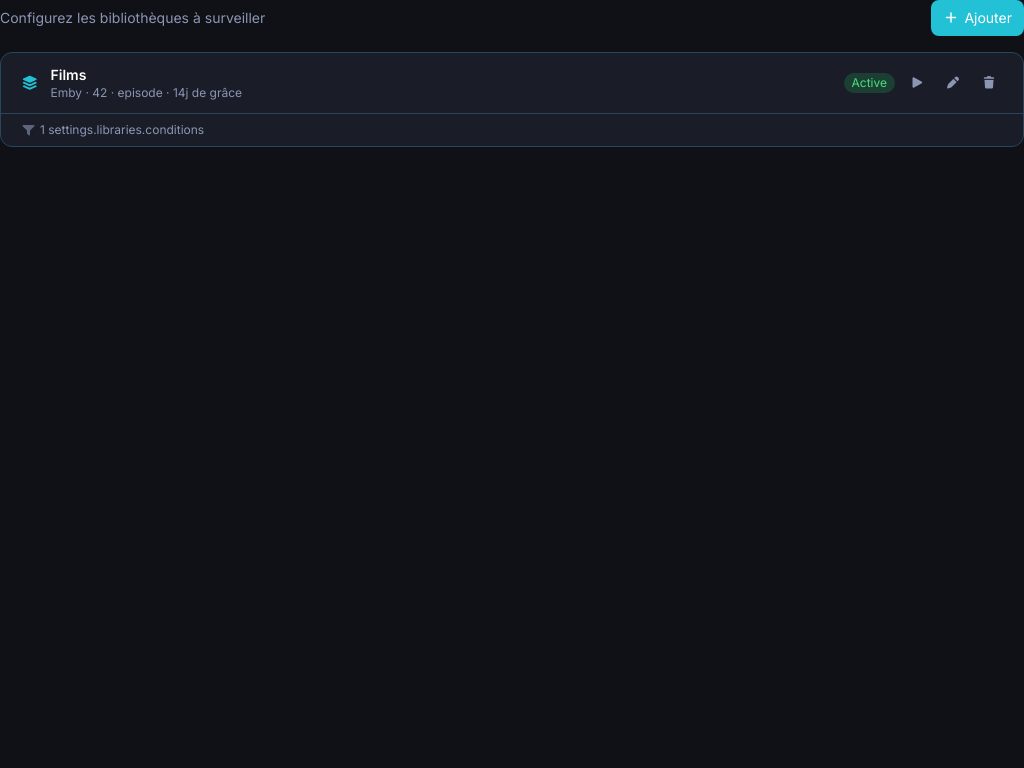
Scenario: LibrariesTab › openEdit pre-fills the modal from the clicked library
Click the button named "Modifier". click: (953, 83)
box: x1=939 y1=69 x2=967 y2=97
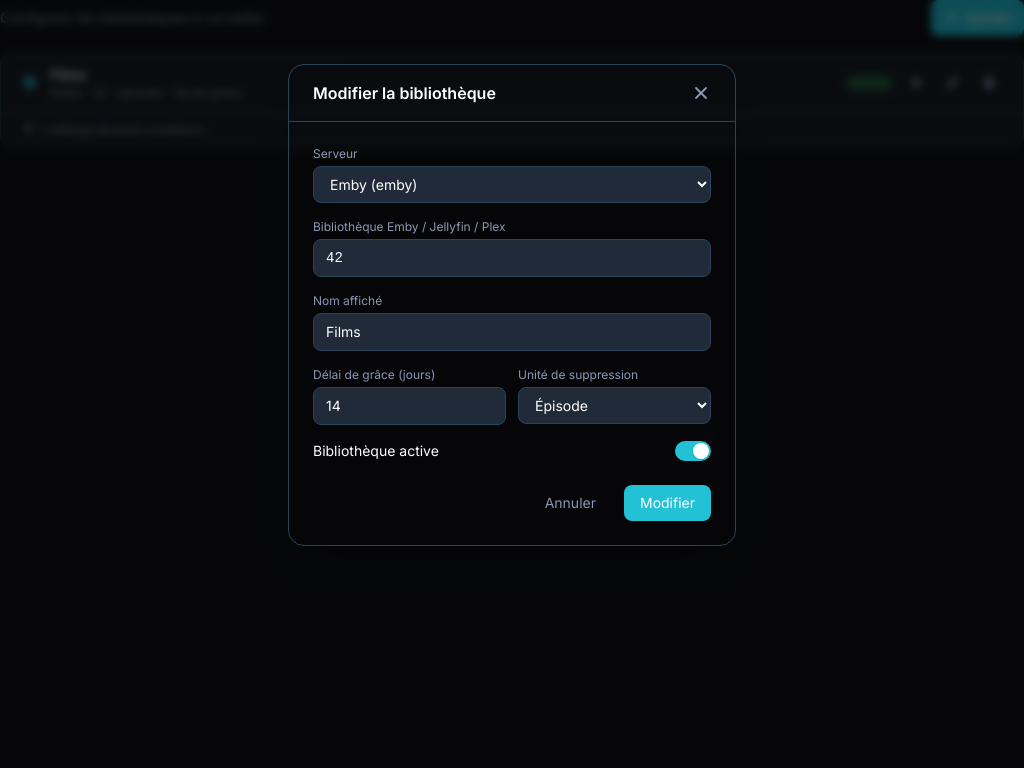
Expected: the text "Modifier la bibliothèque" is shown, x1=313 y1=81 x2=496 y2=105
